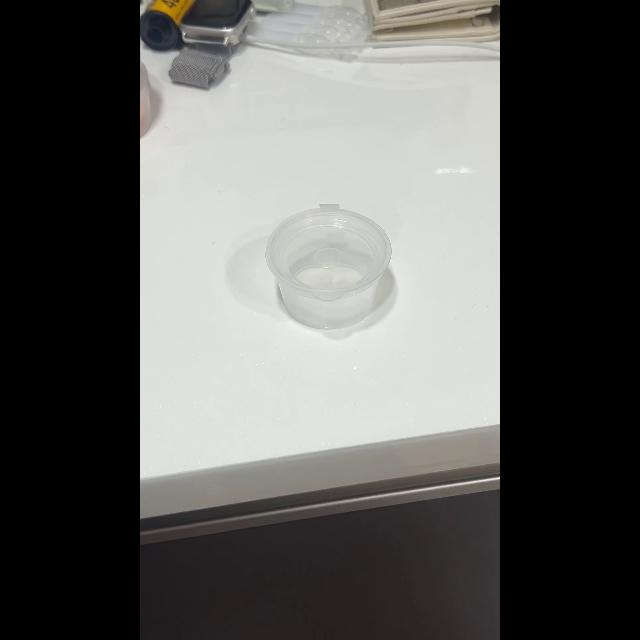clean: (274, 212, 384, 326)
